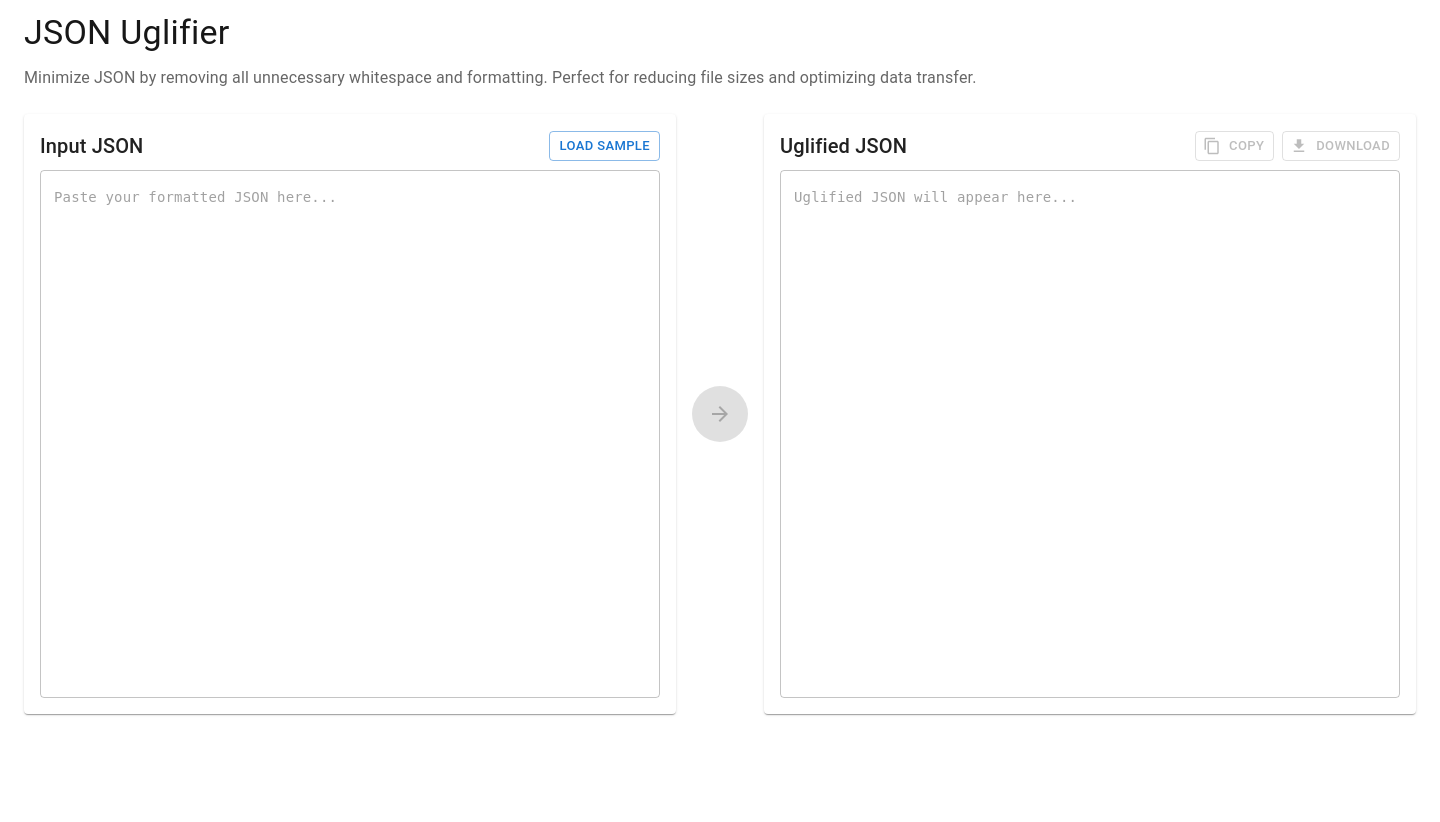
Test: JsonUglifierTool › should show error for invalid JSON
Clear the text box with placeholder "Paste your formatted JSON here..." at (350, 434), box left=54, top=186, right=646, bottom=681
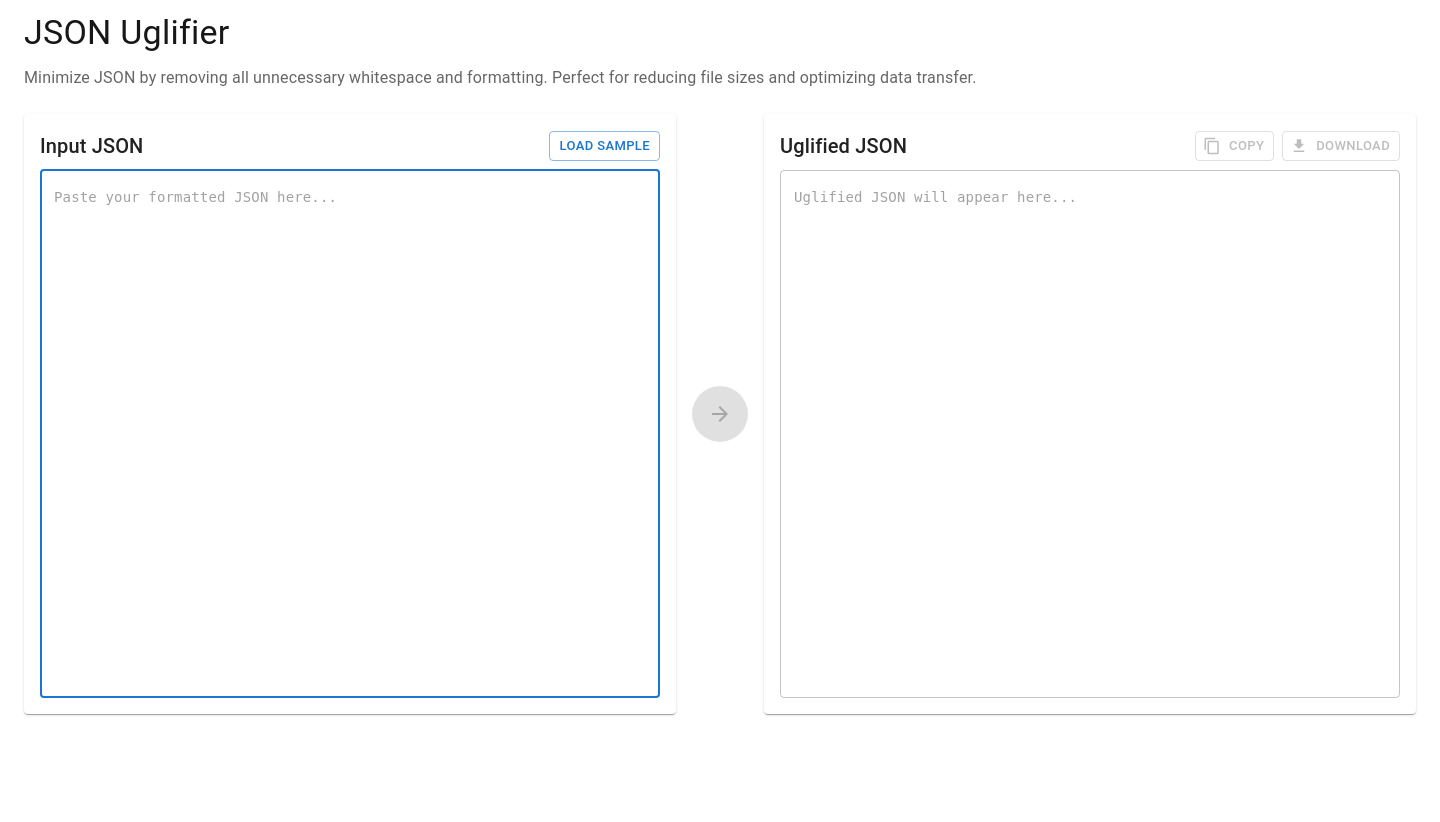
Type keys "{\"invalid\": }"
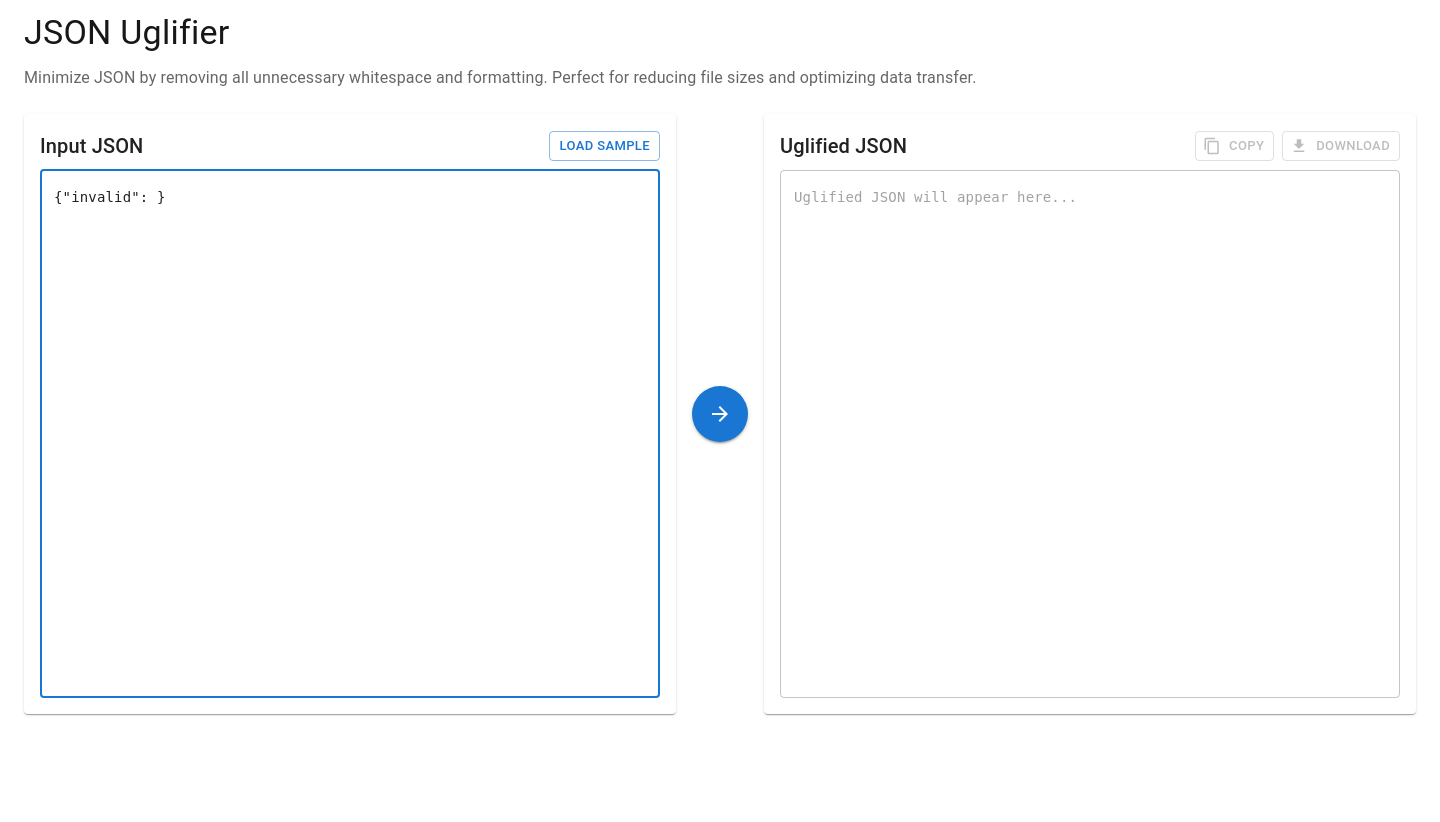
Click the button named "Uglify JSON" at (720, 414), box left=692, top=386, right=748, bottom=442
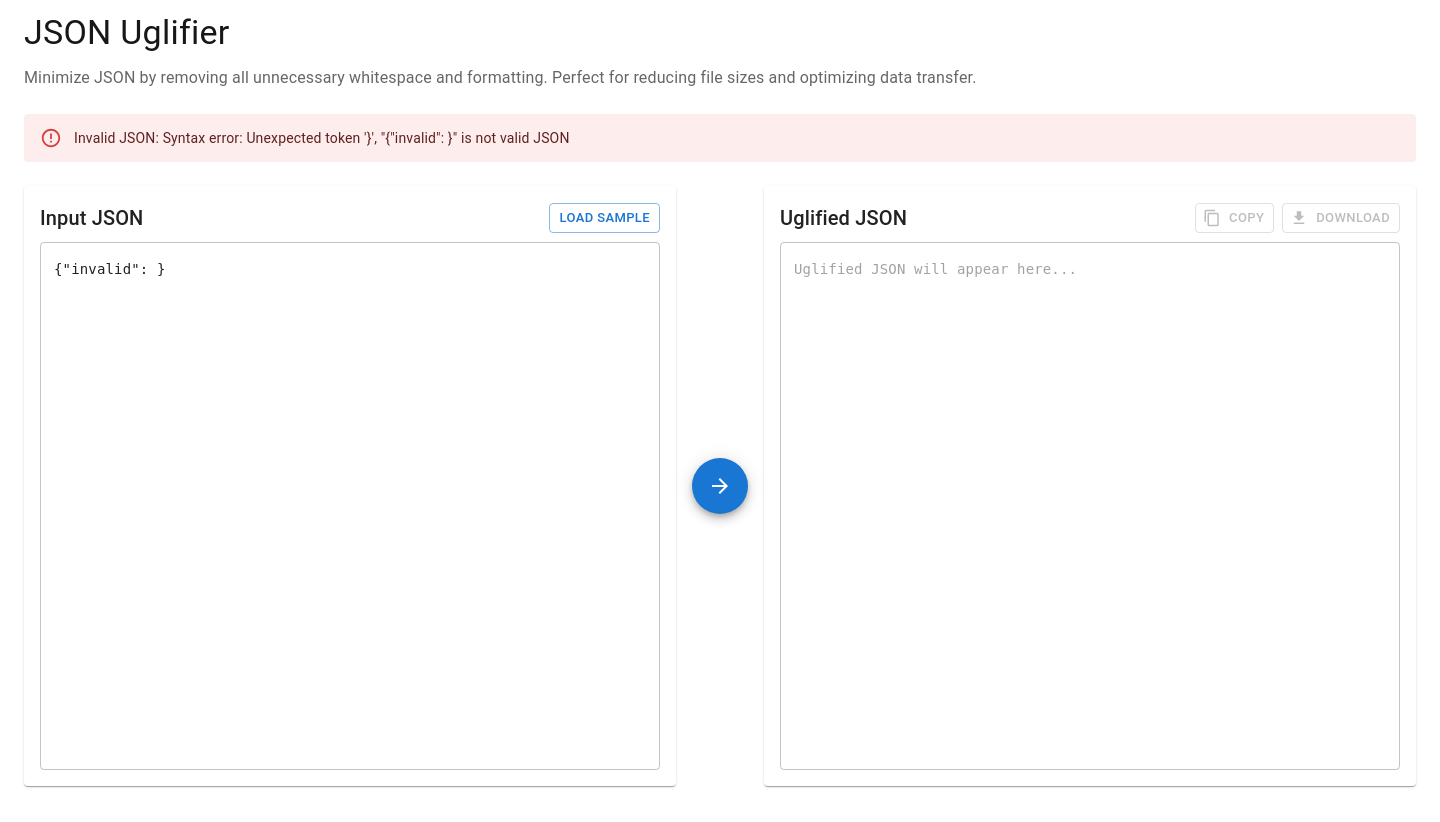
Expected: the message is shown, left=24, top=114, right=1416, bottom=162
Expected: the message shows "JSON", left=74, top=130, right=570, bottom=146
